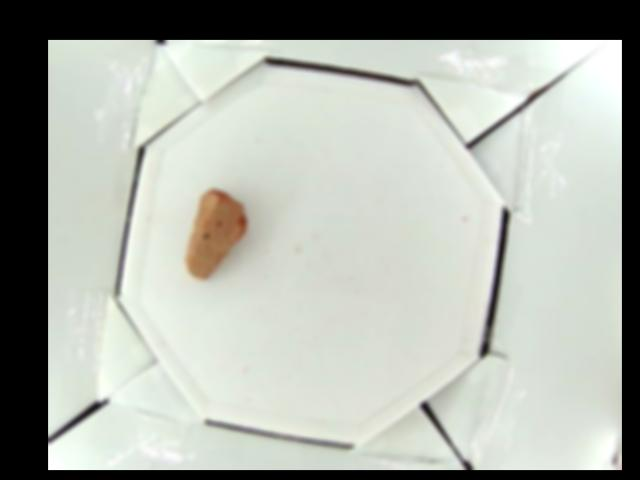Brisk: (182, 187, 248, 281)
